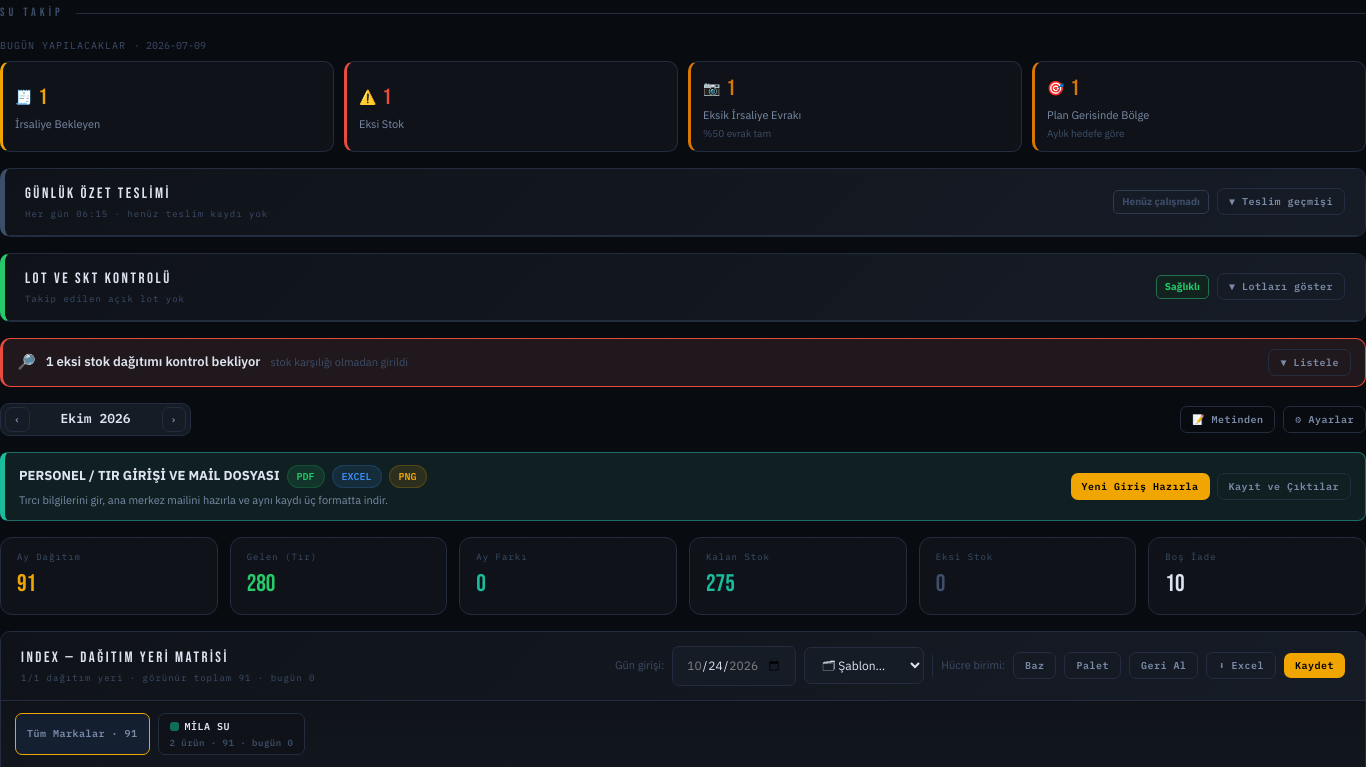
Scenario: WaterPage tek-ekran pano smoke › uyarı merkezi bandı kartları gösterir ve tıklanınca detay açılır
This screenshot has width=1366, height=767.
Check: the text "BUGÜN YAPILACAKLAR" is shown, box [0,38,126,53]
Note: benzersiz kart etiketi (KPI şeridiyle çakışmaz)
Click the text "İrsaliye Bekleyen": {"x": 58, "y": 124} [15,116,100,130]
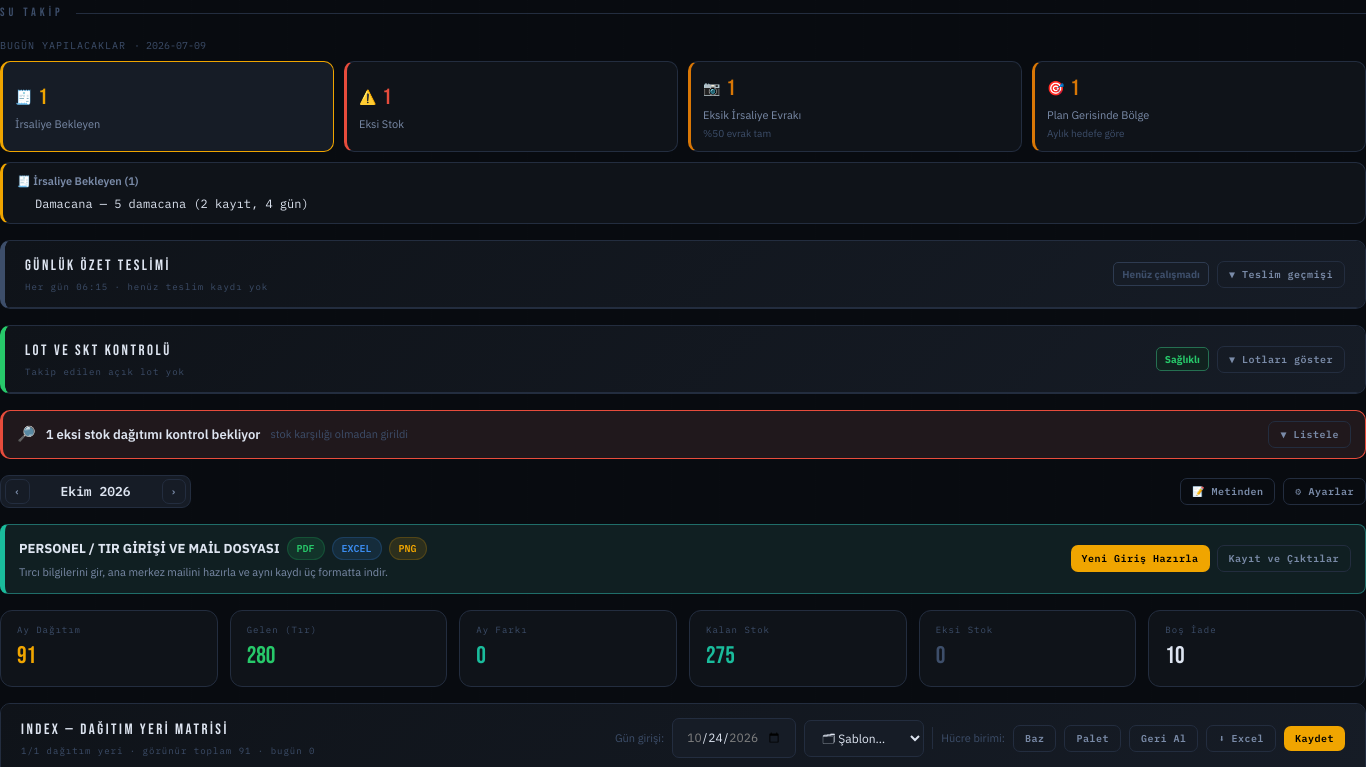
Check: the text "%50 evrak tam" is shown, box [703,126,771,140]
Check: the list item "Damacana — 5 damacana (2 kayıt, 4 gün)" is shown, box [35,196,309,211]
Click the text "Eksik İrsaliye Evrakı": {"x": 752, "y": 115} [703,108,801,122]
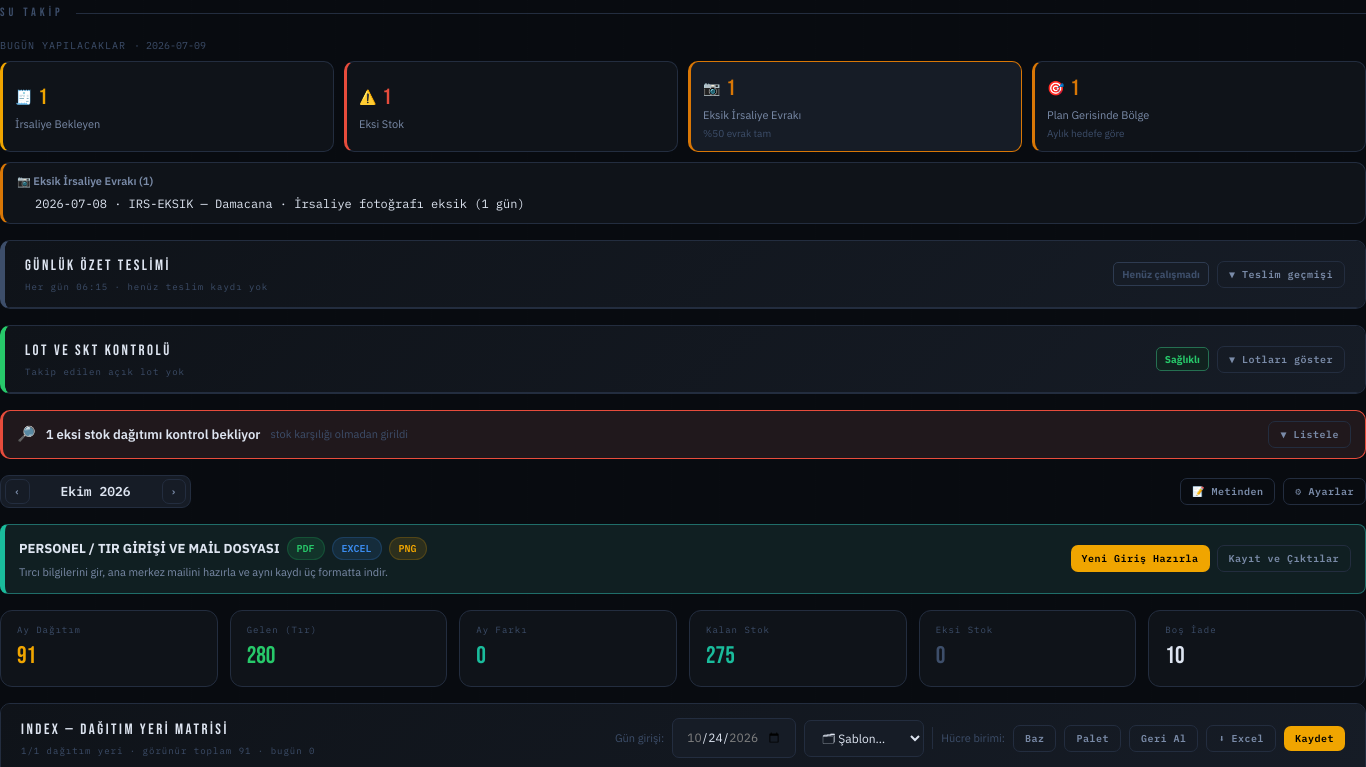
Check: the list item is shown, box [35,196,525,211]
